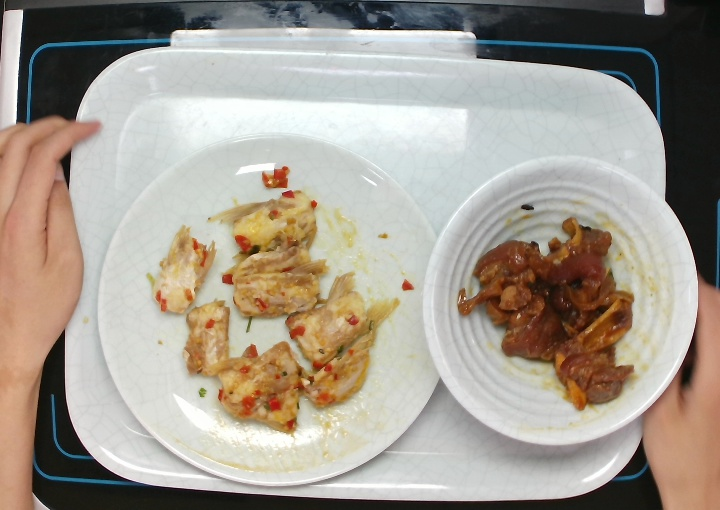JYsf-Da_Yuan_Pan: (93, 127, 443, 492)
JYsf-Xiao_Tang_Wan: (418, 150, 703, 450)
